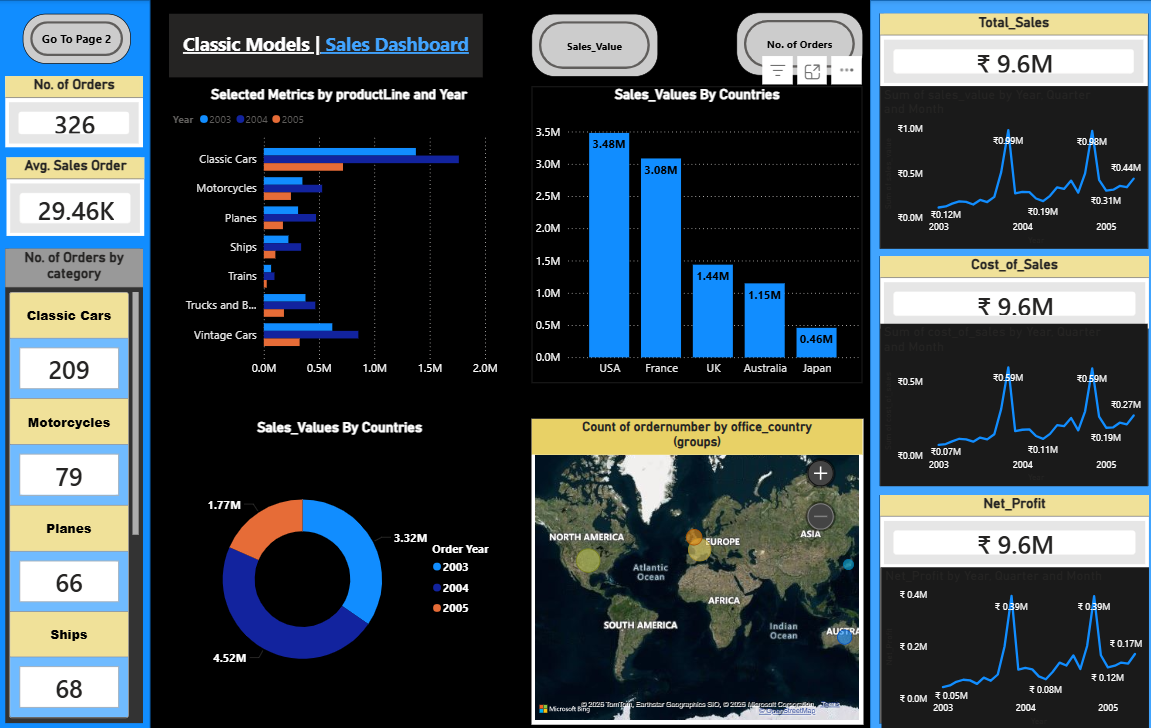

The page's visual inventory and layout, read from the dashboard file:
{"tool":"powerbi","page":{"name":"Sales  Dashboard","canvas":[1500,950],"ordinal":0},"visuals":[{"type":"shape","box":[0,0,195.9,950.3],"z":0},{"type":"shape","box":[1128.4,0,372.4,950.3],"z":1000},{"type":"shape","box":[1139.7,17.8,349.7,304.4],"z":2000},{"type":"shape","box":[1139.7,331.9,349.7,297.9],"z":3000},{"type":"shape","box":[1139.7,641.1,349.7,296.3],"z":4000},{"type":"cardVisual","title":"Total_Sales","fields":{"Data":["Sum(Sales Data for Power BI.sales_value)"]},"box":[1141.4,17.8,346.5,93.9],"z":5000},{"type":"cardVisual","title":"Cost_of_Sales","fields":{"Data":["Sum(Sales Data for Power BI.sales_value)"]},"box":[1141.4,331.9,348.1,93.9],"z":6000},{"type":"cardVisual","title":"Net_Profit","fields":{"Data":["Sum(Sales Data for Power BI.sales_value)"]},"box":[1141.4,641.1,348.1,93.9],"z":7000},{"type":"lineChart","fields":{"Y":["Sum(Sales Data for Power BI.sales_value)"],"Category":["Sales Data for Power BI.orderdate.Variation.Date Hierarchy.Year","Sales Data for Power BI.orderdate.Variation.Date Hierarchy.Quarter","Sales Data for Power BI.orderdate.Variation.Date Hierarchy.Month"]},"box":[1141.4,111.7,346.5,210.5],"z":8000},{"type":"lineChart","fields":{"Y":["Sum(Sales Data for Power BI.cost_of_sales)"],"Category":["Sales Data for Power BI.orderdate.Variation.Date Hierarchy.Year","Sales Data for Power BI.orderdate.Variation.Date Hierarchy.Quarter","Sales Data for Power BI.orderdate.Variation.Date Hierarchy.Month"]},"box":[1141.4,419.3,346.5,210.5],"z":9000},{"type":"lineChart","fields":{"Y":["Sales Data for Power BI.Net_Profit"],"Category":["Sales Data for Power BI.orderdate.Variation.Date Hierarchy.Year","Sales Data for Power BI.orderdate.Variation.Date Hierarchy.Quarter","Sales Data for Power BI.orderdate.Variation.Date Hierarchy.Month"]},"box":[1143,735,346.5,210.5],"z":10000},{"type":"cardVisual","title":"No. of Orders","fields":{"Data":["Count(Sales Data for Power BI.ordernumber)"]},"box":[8.4,98.6,178.7,91.9],"z":11000},{"type":"cardVisual","title":"Avg. Sales Order","fields":{"Data":["Sales Data for Power BI.Average_Sales_Order"]},"box":[10,203.8,178.7,101.9],"z":12000},{"type":"cardVisual","title":"No. of Orders by category","fields":{"Data":["Count(Sales Data for Power BI.ordernumber)"],"Rows":["Sales Data for Power BI.productLine"]},"box":[8.4,322.4,178.7,614.7],"z":13000},{"type":"actionButton","box":[689.9,18.4,163.7,81.8],"z":14000},{"type":"actionButton","box":[955.5,16.7,163.7,81.8],"z":15000},{"type":"clusteredBarChart","fields":{"Category":["Sales Data for Power BI.productLine"],"Y":["Table.Selected Metrics"],"Series":["Sales Data for Power BI.orderdate.Variation.Date Hierarchy.Year"]},"box":[220.2,111.7,440.4,385.3],"z":16000},{"type":"map","fields":{"Category":["Sales Data for Power BI.office_country (groups)"],"Size":["Count(Sales Data for Power BI.ordernumber)"]},"box":[689.7,542.4,429,395],"z":17000},{"type":"donutChart","fields":{"Y":["Table.Selected Metrics"],"Category":["Sales Data for Power BI.orderdate.Variation.Date Hierarchy.Year"]},"box":[220.2,542.4,442,395],"z":19000},{"type":"clusteredColumnChart","fields":{"Category":["Sales Data for Power BI.office_country"],"Y":["Table.Selected Metrics"]},"box":[689.7,111.7,429,385.3],"z":20000},{"type":"textbox","box":[220.2,17.8,406.4,82.6],"z":21000},{"type":"actionButton","box":[30.1,18.4,140.3,65.1],"z":22000}]}

Visuals, with their boxes in screenshot pixels (x1, y1, x2, y2), scaled from the page's 1500x950 canvas onto the 1151x728 screenshot:
shape: region(0, 0, 150, 727)
shape: region(866, 0, 1150, 727)
shape: region(875, 14, 1143, 247)
shape: region(875, 254, 1143, 483)
shape: region(875, 491, 1143, 718)
"Total_Sales" cardVisual: region(876, 14, 1142, 86)
"Cost_of_Sales" cardVisual: region(876, 254, 1143, 326)
"Net_Profit" cardVisual: region(876, 491, 1143, 563)
lineChart - Sum(Sales Data for Power BI.sales_value) x Sales Data for Power BI.orderdate.Variation.Date Hierarchy.Year: region(876, 86, 1142, 247)
lineChart - Sum(Sales Data for Power BI.cost_of_sales) x Sales Data for Power BI.orderdate.Variation.Date Hierarchy.Year: region(876, 321, 1142, 483)
lineChart - Sales Data for Power BI.Net_Profit x Sales Data for Power BI.orderdate.Variation.Date Hierarchy.Year: region(877, 563, 1143, 725)
"No. of Orders" cardVisual: region(6, 76, 144, 146)
"Avg. Sales Order" cardVisual: region(8, 156, 145, 234)
"No. of Orders by category" cardVisual: region(6, 247, 144, 718)
actionButton: region(529, 14, 655, 77)
actionButton: region(733, 13, 859, 75)
clusteredBarChart - Sales Data for Power BI.productLine x Table.Selected Metrics: region(169, 86, 507, 381)
map - Sales Data for Power BI.office_country (groups) x Count(Sales Data for Power BI.ordernumber): region(529, 416, 858, 718)
donutChart - Table.Selected Metrics x Sales Data for Power BI.orderdate.Variation.Date Hierarchy.Year: region(169, 416, 508, 718)
clusteredColumnChart - Sales Data for Power BI.office_country x Table.Selected Metrics: region(529, 86, 858, 381)
textbox: region(169, 14, 481, 77)
actionButton: region(23, 14, 131, 64)
